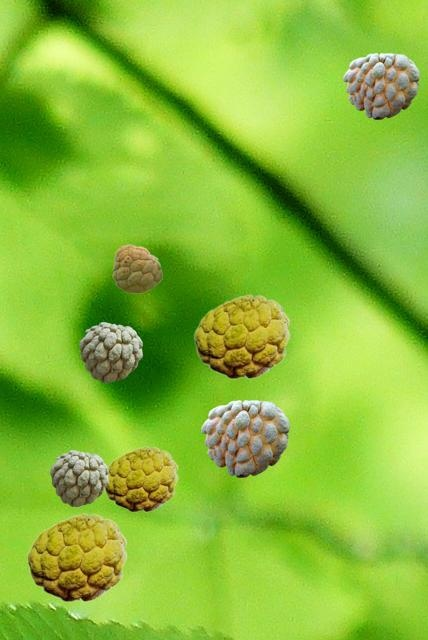atis: (26, 513, 126, 601), (193, 294, 289, 378), (201, 400, 288, 476), (343, 53, 418, 118), (104, 446, 177, 511), (79, 322, 141, 381), (50, 450, 107, 505), (112, 244, 161, 292)
